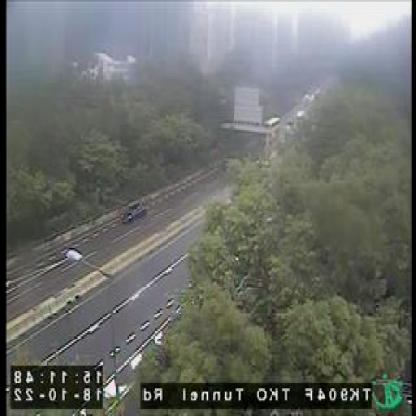Car: (121, 199, 147, 224)
